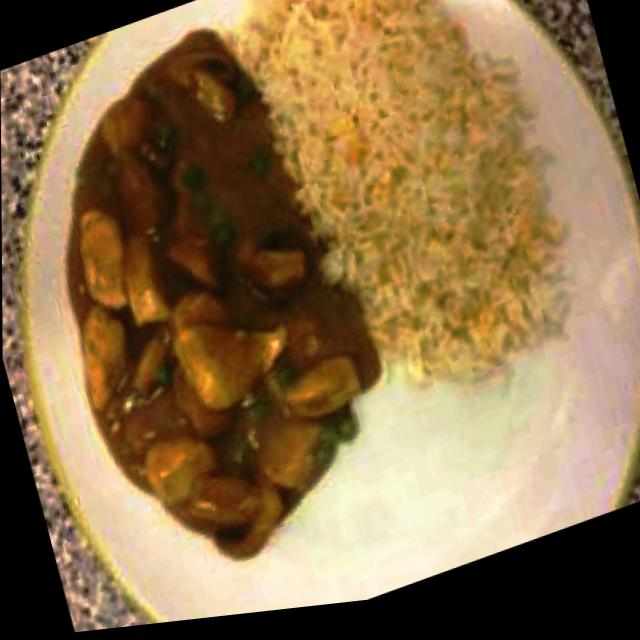curry: (11, 0, 414, 606)
rice: (269, 0, 575, 409), (230, 0, 311, 150), (284, 129, 327, 203)
